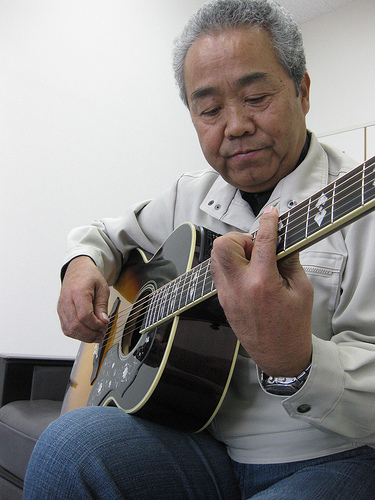guitar: (58, 159, 375, 439)
